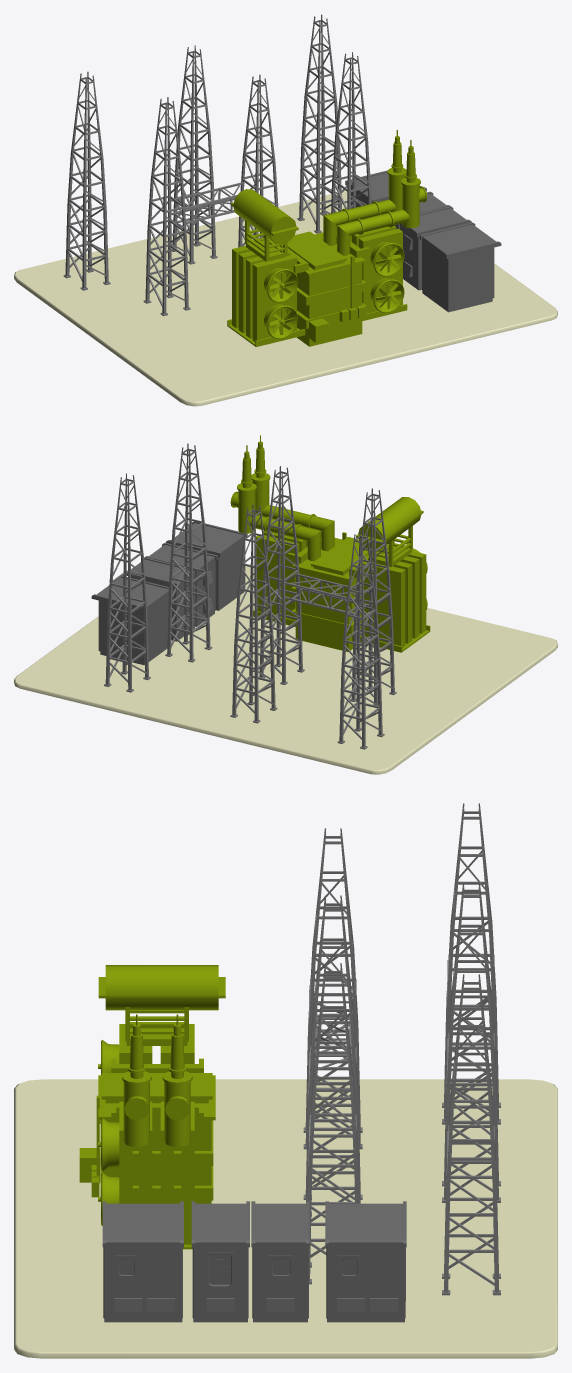
Rendered from Area_A.fbx.
3 views of the same model, one above another, from view 1: azimuth 30°, elevation 25°; view 2: azimuth 150°, elevation 25°; view 3: azimuth 270°, elevation 25° (orthographic). The views are drawn at different scales.
Visible parts, largest first — view 1: Area_A; view 2: Area_A; view 3: Area_A.
Boxes of the visible parts, bbox=[...] form: Area_A: bbox=[14, 14, 557, 406]; Area_A: bbox=[14, 435, 557, 774]; Area_A: bbox=[14, 803, 557, 1358].
Bounding box in the file's own units: 67.07 × 36.07 × 56.25.
